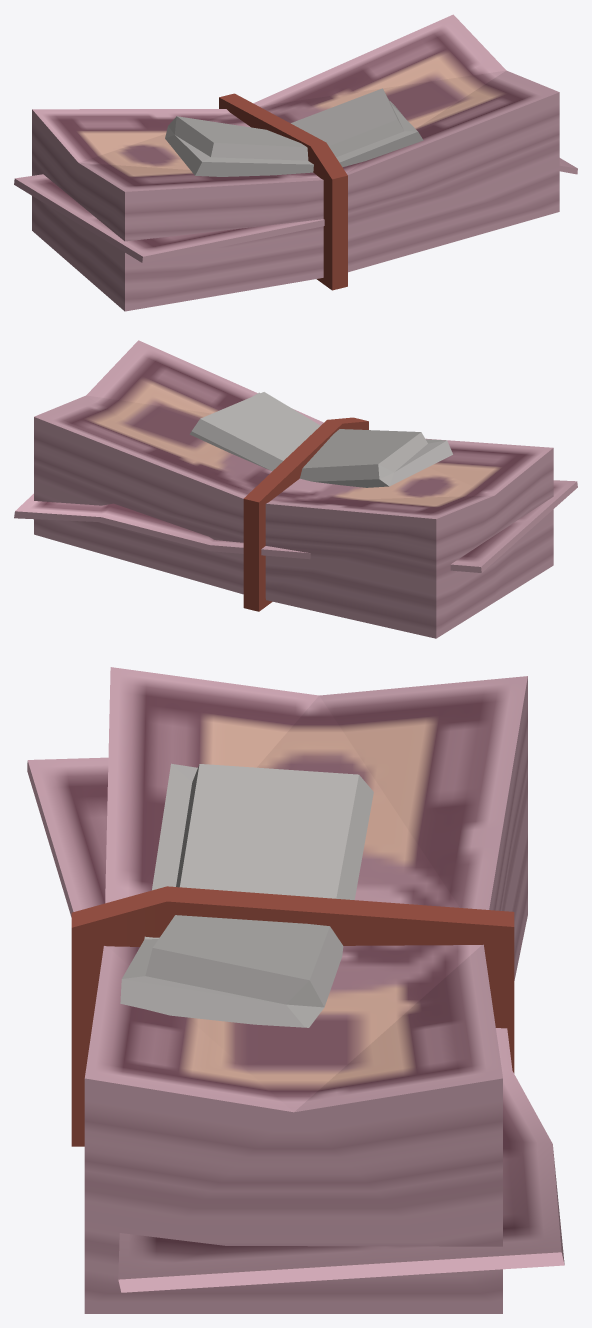
File: SM_Prop_Money_Strapped_01.fbx
The picture shows the model from 3 angles, top to bottom: view 1: azimuth 30°, elevation 25°; view 2: azimuth 150°, elevation 25°; view 3: azimuth 270°, elevation 25°; orthographic projection. The views are drawn at different scales.
Visible parts, largest first — view 1: SM_Prop_Money_Strapped_01; view 2: SM_Prop_Money_Strapped_01; view 3: SM_Prop_Money_Strapped_01.
Boxes of the visible parts, box(x1,y1,x2,y2) form: SM_Prop_Money_Strapped_01: box(14, 14, 577, 311); SM_Prop_Money_Strapped_01: box(14, 340, 577, 638); SM_Prop_Money_Strapped_01: box(27, 667, 564, 1313).
Size of the model in its own units: 29.8 by 8.7 by 14.86.
